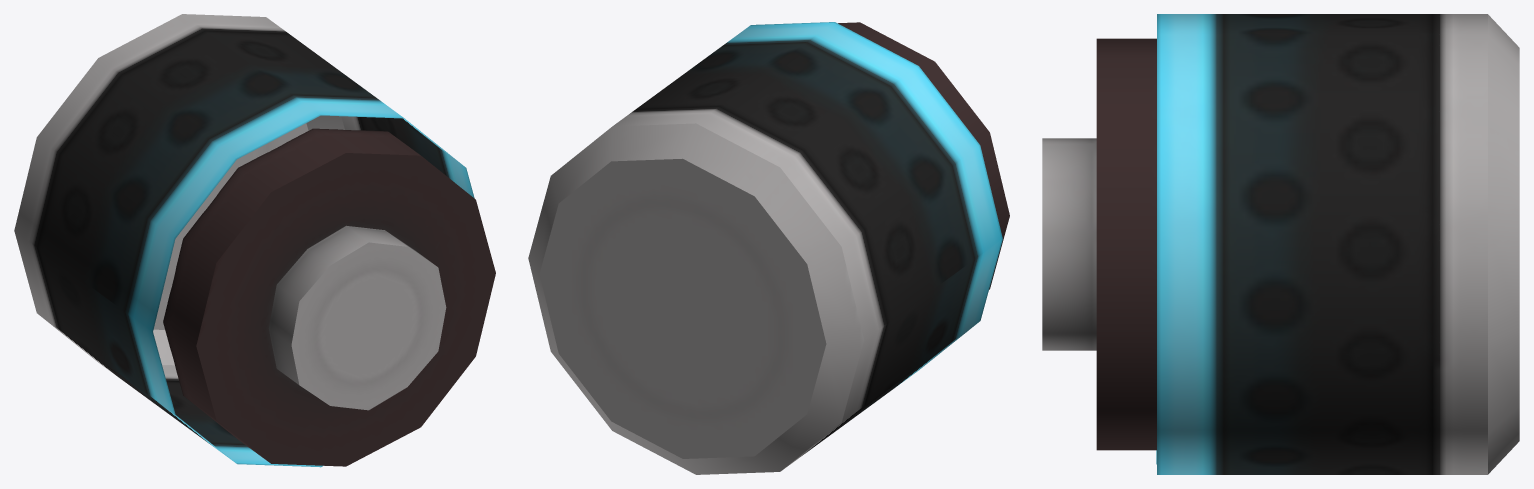
Rendered from obj_interactive_suspensionoffroad_05_on.fbx.
The picture shows the model from 3 angles, left to right: view 1: azimuth 30°, elevation 25°; view 2: azimuth 150°, elevation 25°; view 3: azimuth 270°, elevation 25°; orthographic projection. The views are drawn at different scales.
Parts seen in each view (by area): view 1: obj_interactive_suspensionoffroad_05_on; view 2: obj_interactive_suspensionoffroad_05_on; view 3: obj_interactive_suspensionoffroad_05_on.
Part boxes in pixels (x1,y1,x2,y2): obj_interactive_suspensionoffroad_05_on: [14, 14, 495, 467]; obj_interactive_suspensionoffroad_05_on: [528, 22, 1009, 474]; obj_interactive_suspensionoffroad_05_on: [1042, 14, 1519, 474].
Size of the model in its own units: 1.09 by 1.09 by 1.13.
